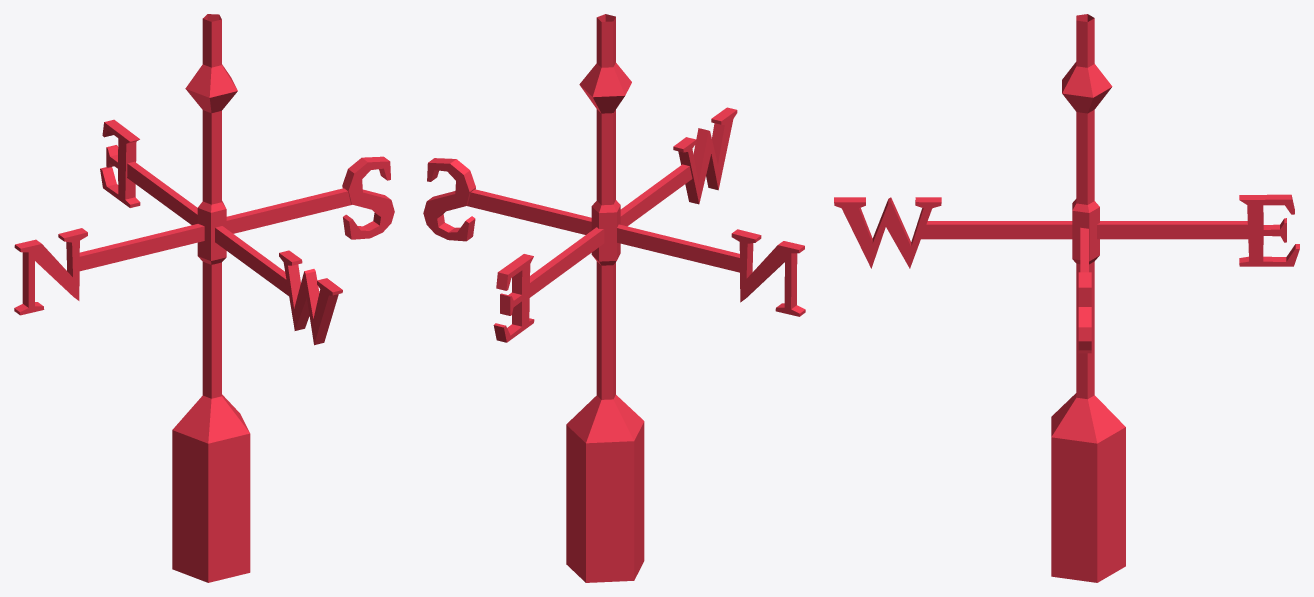
The model's file is SM_Weather_Vane_A.fbx.
3 views of the same model, side by side, from view 1: azimuth 30°, elevation 25°; view 2: azimuth 150°, elevation 25°; view 3: azimuth 270°, elevation 25° (orthographic).
Parts seen in each view (by area): view 1: weather-vane-a-base; view 2: weather-vane-a-base; view 3: weather-vane-a-base.
Part boxes in pixels (x1=…): weather-vane-a-base: x1=14, y1=14, x2=394, y2=582; weather-vane-a-base: x1=423, y1=14, x2=805, y2=582; weather-vane-a-base: x1=834, y1=14, x2=1299, y2=582.
Size of the model in its own units: 0.5908 by 0.8253 by 0.6355.
